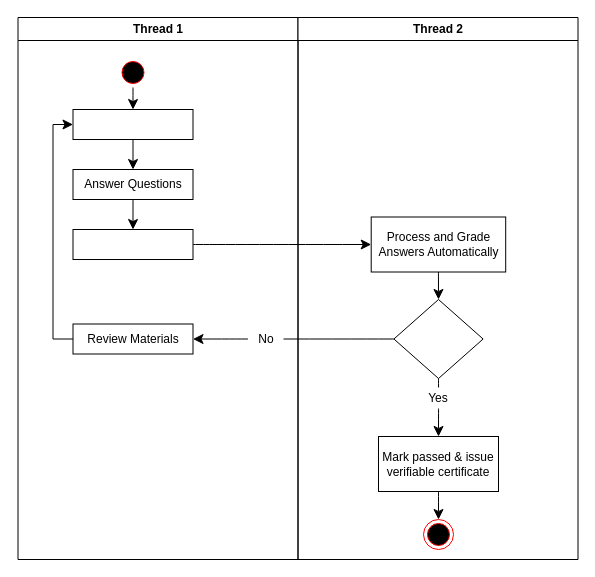
This 595x577 diagram has some shape labels left out. Each missing label, with the centre of its shape:
"is score passing?" belongs at pixel 438 338.
"Start Exam" belongs at pixel 132 124.
"Submit Answers" belongs at pixel 132 244.
